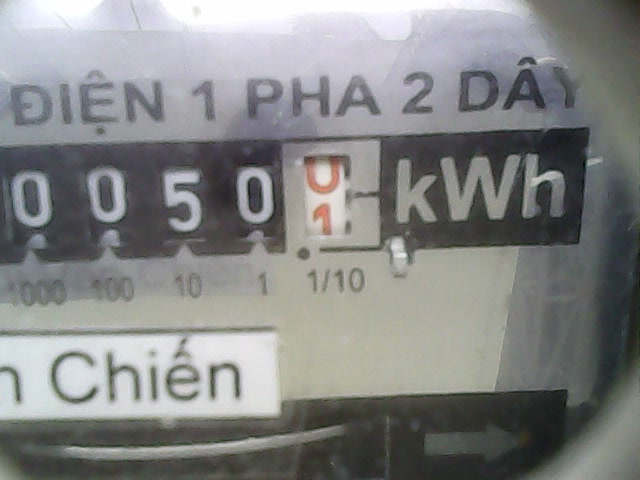phy_plate: (1, 132, 387, 263)
